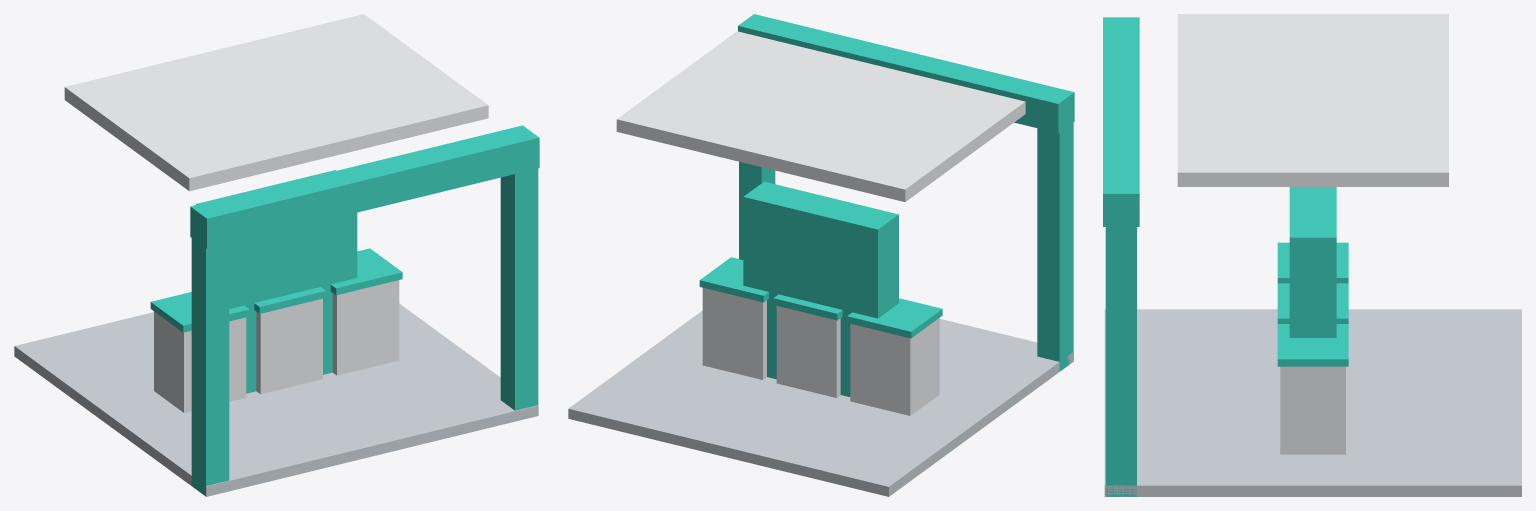
3 renders of one model, left to right at view 1: azimuth 30°, elevation 25°; view 2: azimuth 150°, elevation 25°; view 3: azimuth 270°, elevation 25°, orthographic. The views are drawn at different scales.
Parts seen in each view (by area): view 1: Exhibition Booth Concept; view 2: Exhibition Booth Concept; view 3: Exhibition Booth Concept.
Part boxes in pixels (box(x1,y1,x2,y2)): Exhibition Booth Concept: box(14, 14, 539, 496); Exhibition Booth Concept: box(568, 14, 1074, 496); Exhibition Booth Concept: box(1103, 14, 1521, 496).
Size of the model in its own units: 4 by 3.34 by 4.02.
